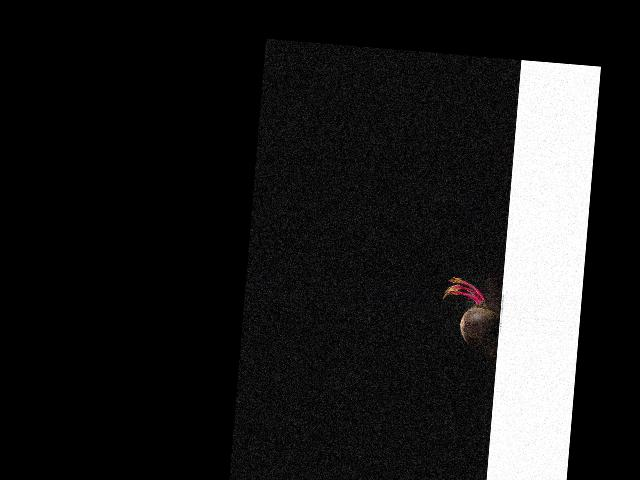beet: (438, 276, 502, 359)
